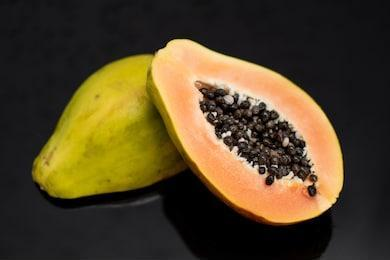papaya: (144, 37, 344, 223), (31, 56, 192, 199)
